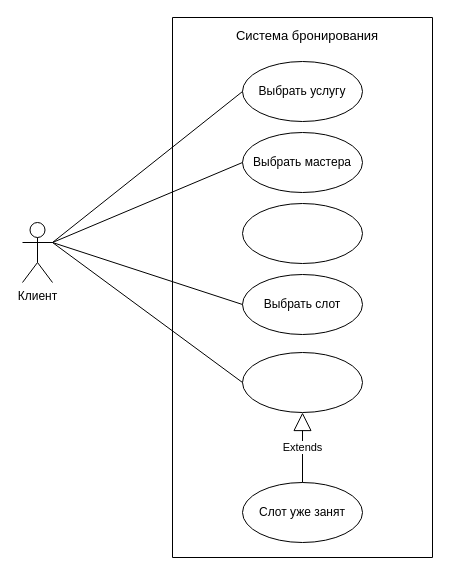
This 450x575 diagram has some shape labels left out. The shapes that lost their labels are listed below. From the top down, each one's box as (x1, y1, x2, y2) in pixels, then its label:
(242, 202, 362, 264): Просмотр доступных слотов
(242, 352, 362, 412): Забронировать слот
